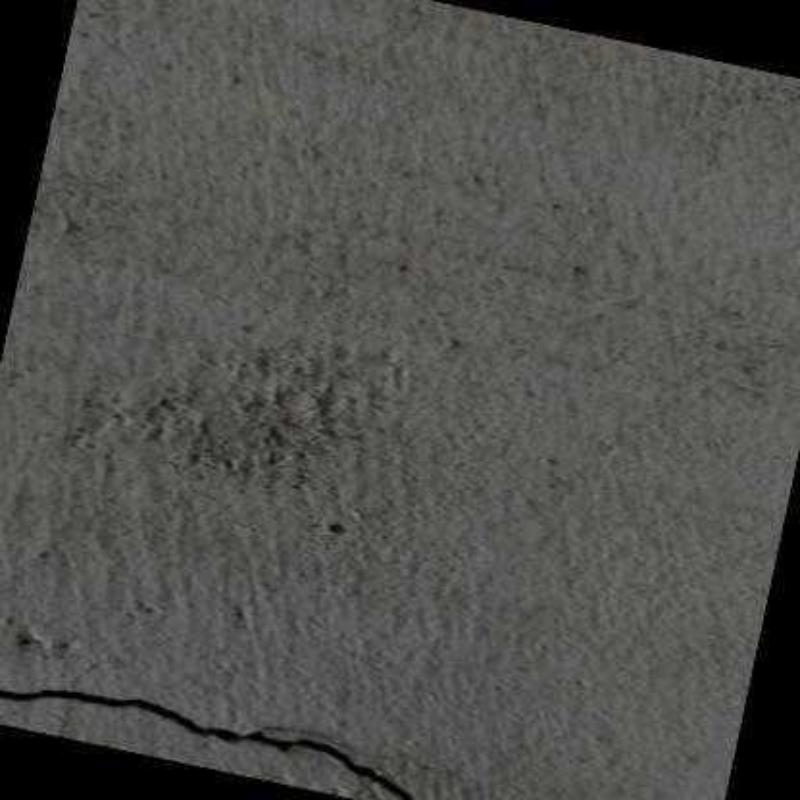pothole: (0, 687, 425, 800)
